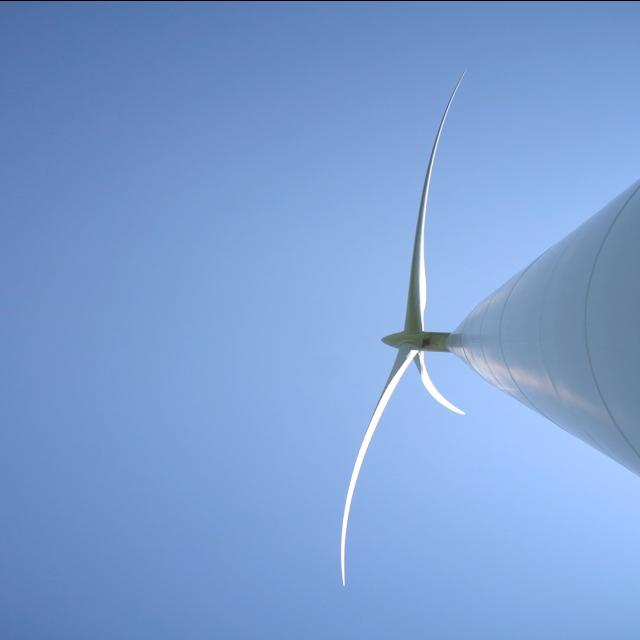blade 1: (418, 362, 468, 466)
blade 2: (329, 402, 398, 580)
blade 3: (384, 97, 461, 291)
